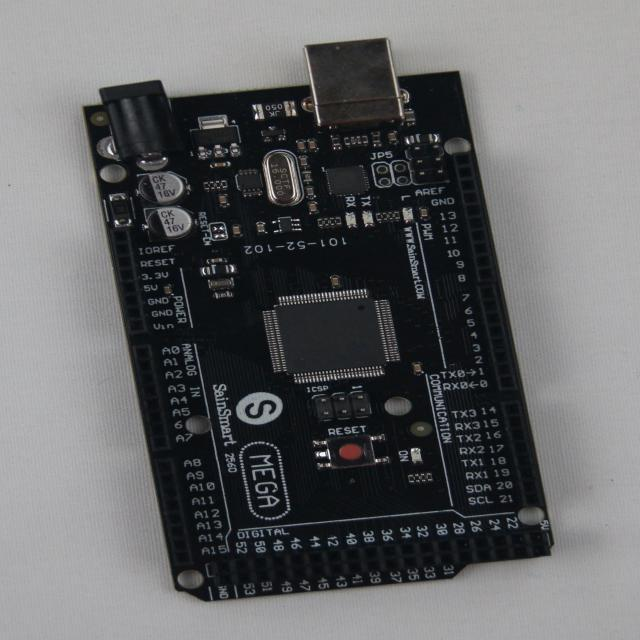Arduino Mega 2560 -Black-: (85, 40, 554, 601)
